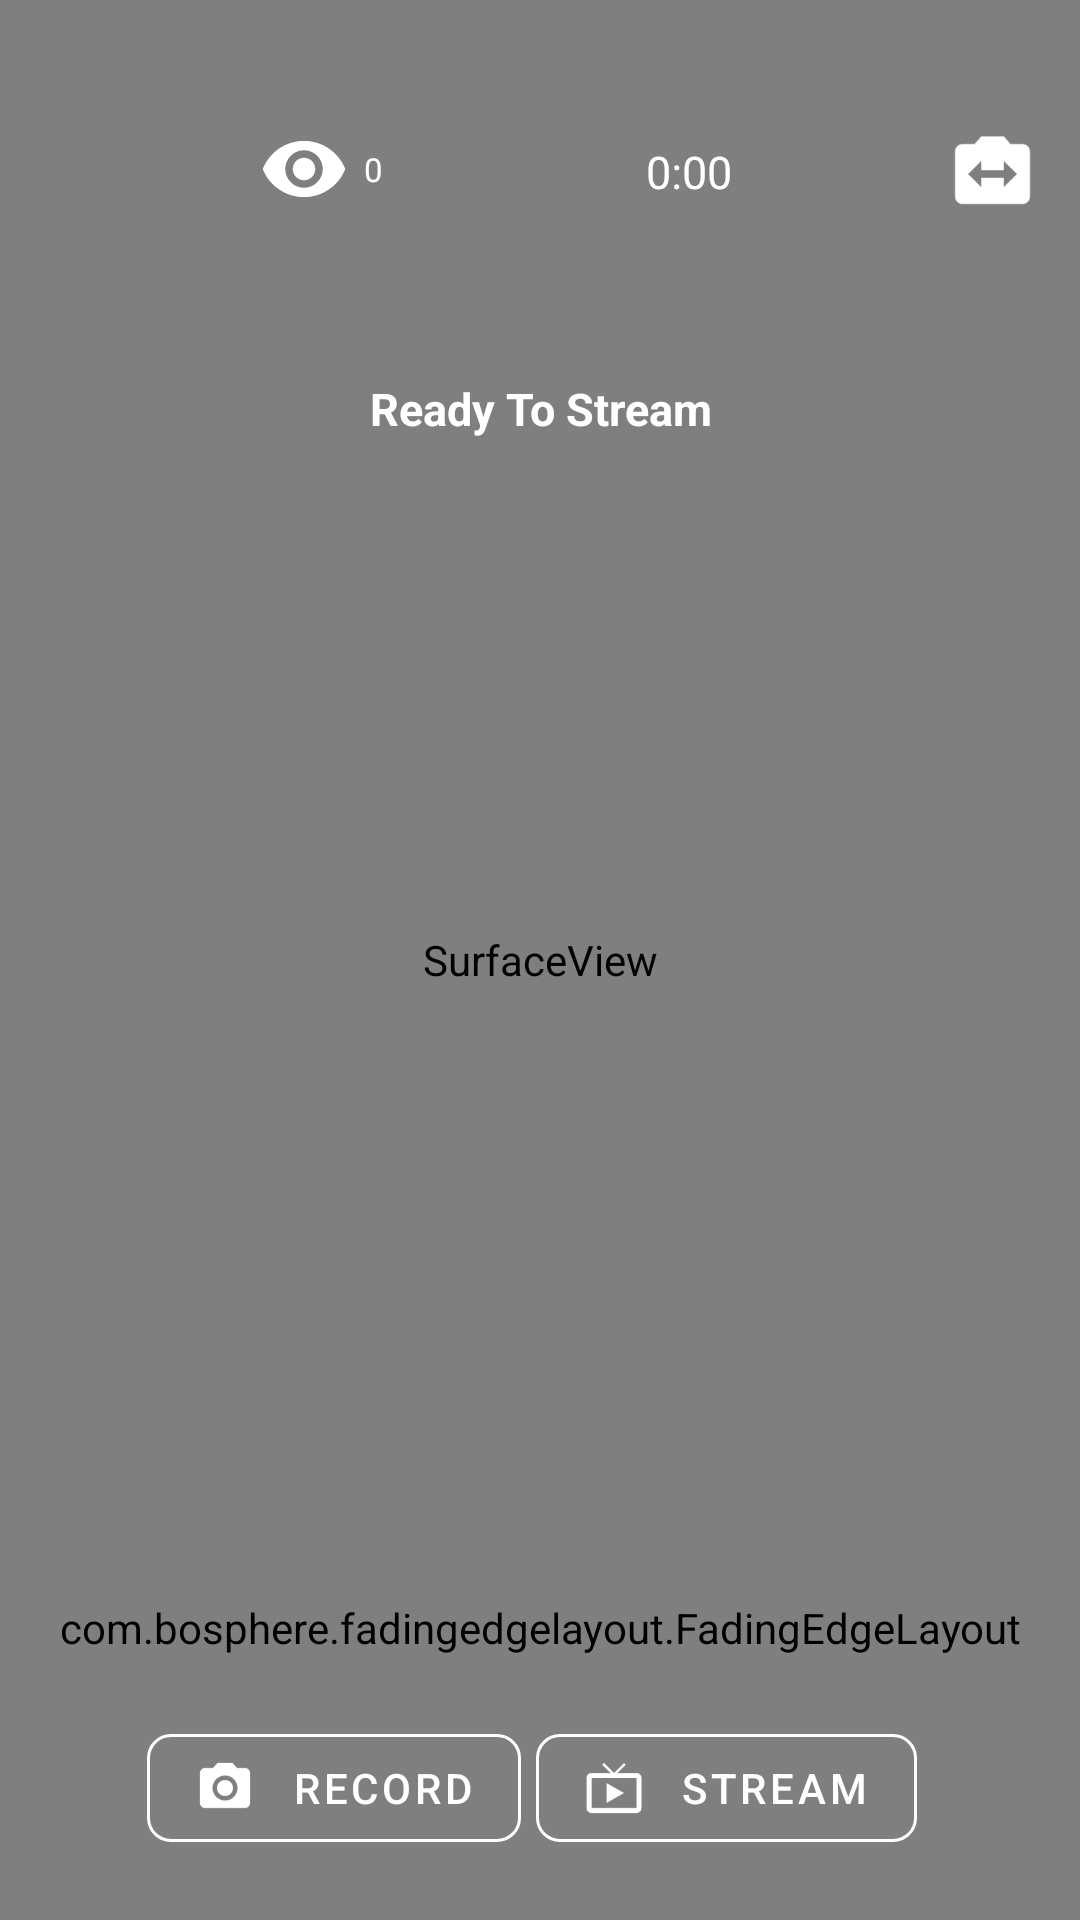

Named icons in this screenshot (1080px×1920px) and their centers, point (x, y):
camera switch: point (992, 170)
visibility: point (304, 169)
